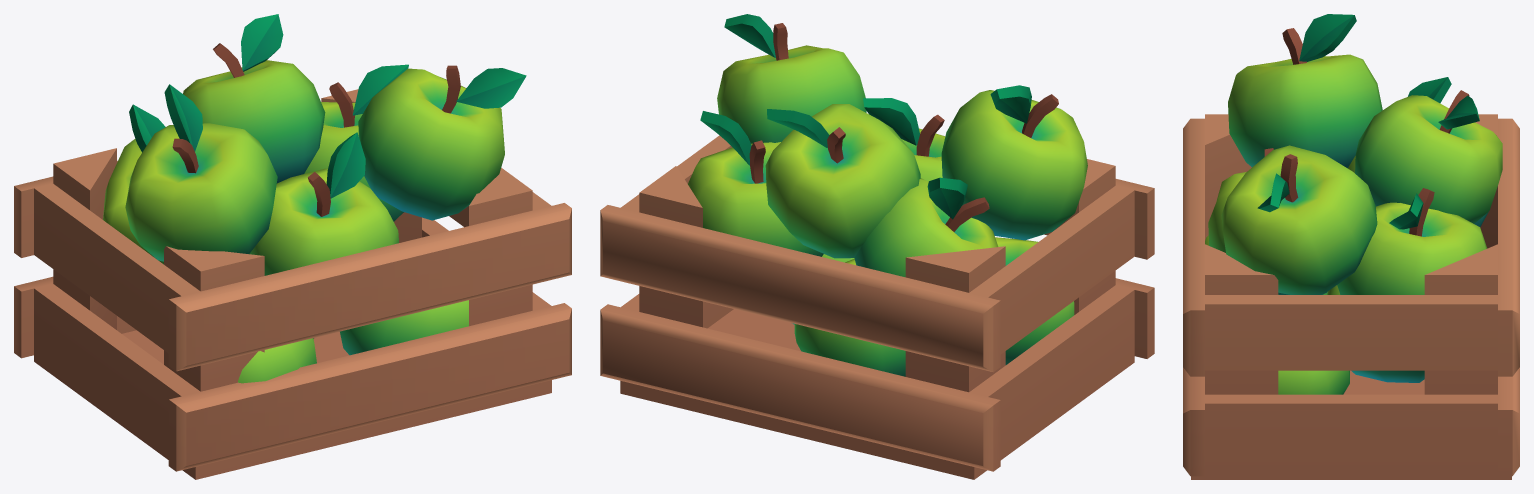
Rendered from food-crate-large-apples.glb.
3 views of the same model, side by side, from view 1: azimuth 30°, elevation 25°; view 2: azimuth 150°, elevation 25°; view 3: azimuth 270°, elevation 25° (orthographic).
Parts seen in each view (by area): view 1: Food_Crate_Large_Apples; view 2: Food_Crate_Large_Apples; view 3: Food_Crate_Large_Apples.
Boxes of the visible parts, x1,y1,x2,y2 form: Food_Crate_Large_Apples: (14, 14, 571, 479); Food_Crate_Large_Apples: (600, 14, 1154, 479); Food_Crate_Large_Apples: (1183, 14, 1519, 479).
Size of the model in its own units: 1.03 by 0.802 by 0.7657.
1 material, 1 textured.
